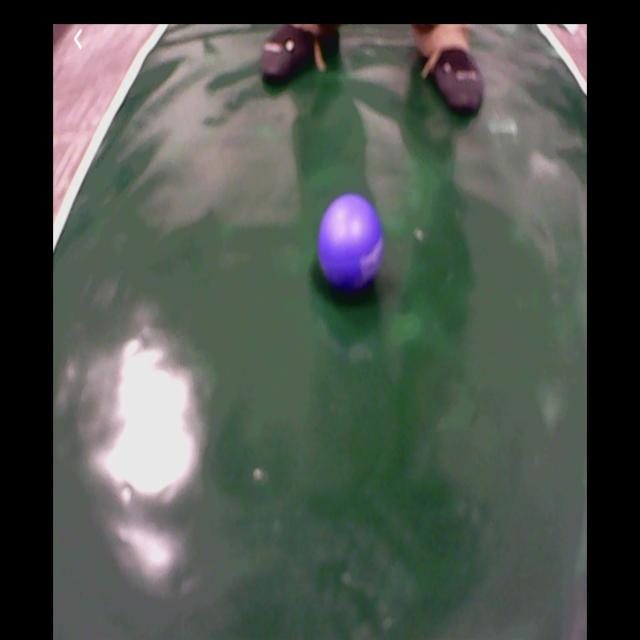ball: (320, 194, 383, 291)
